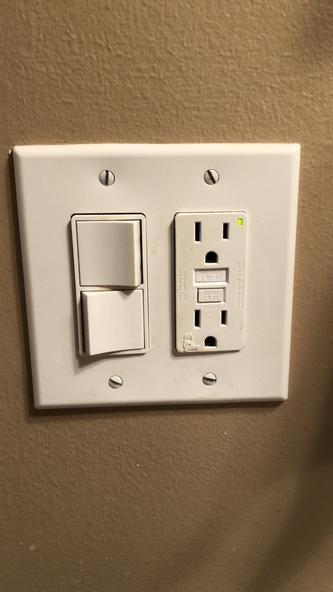switch: (69, 208, 144, 286), (75, 289, 150, 358)
